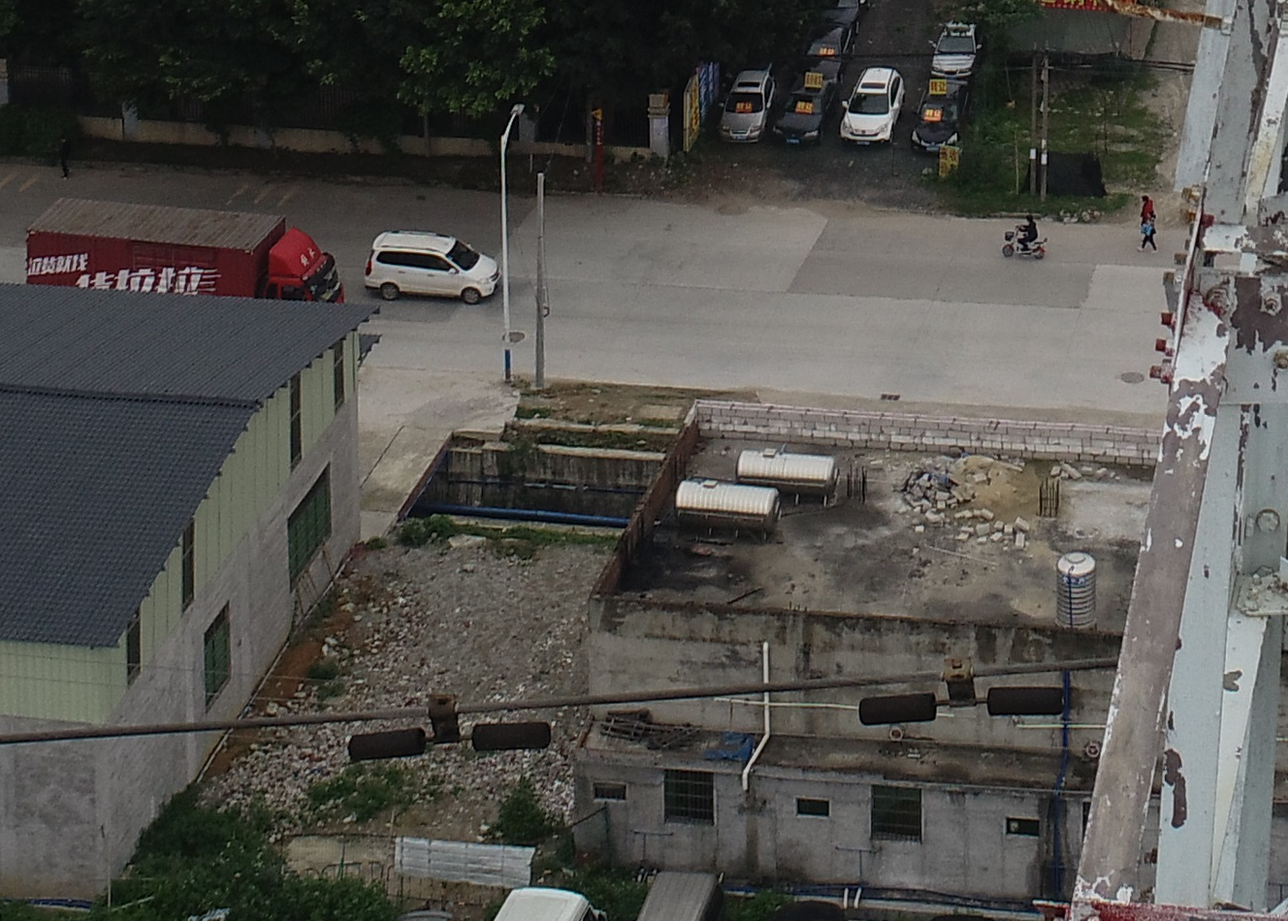damper: (855, 653, 1066, 730), (345, 688, 555, 764)
